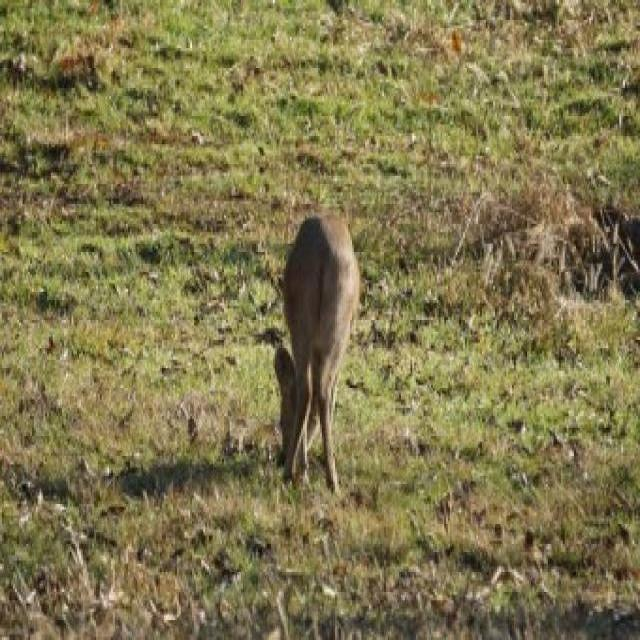deer: (246, 197, 368, 523)
